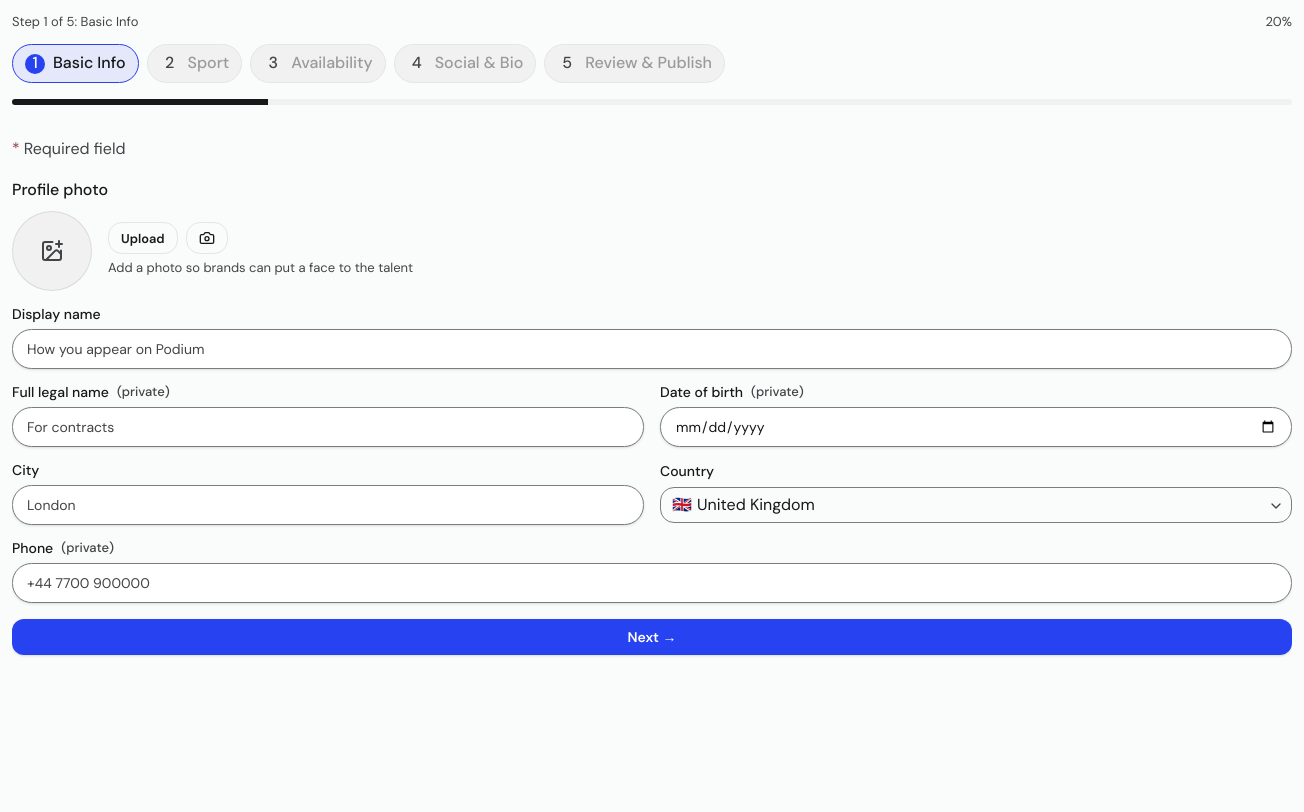
ProfileWizard › step 1: shows validation error for missing display name
Click the button "Next →".
click(652, 636)  # box x1=12 y1=618 x2=1292 y2=654
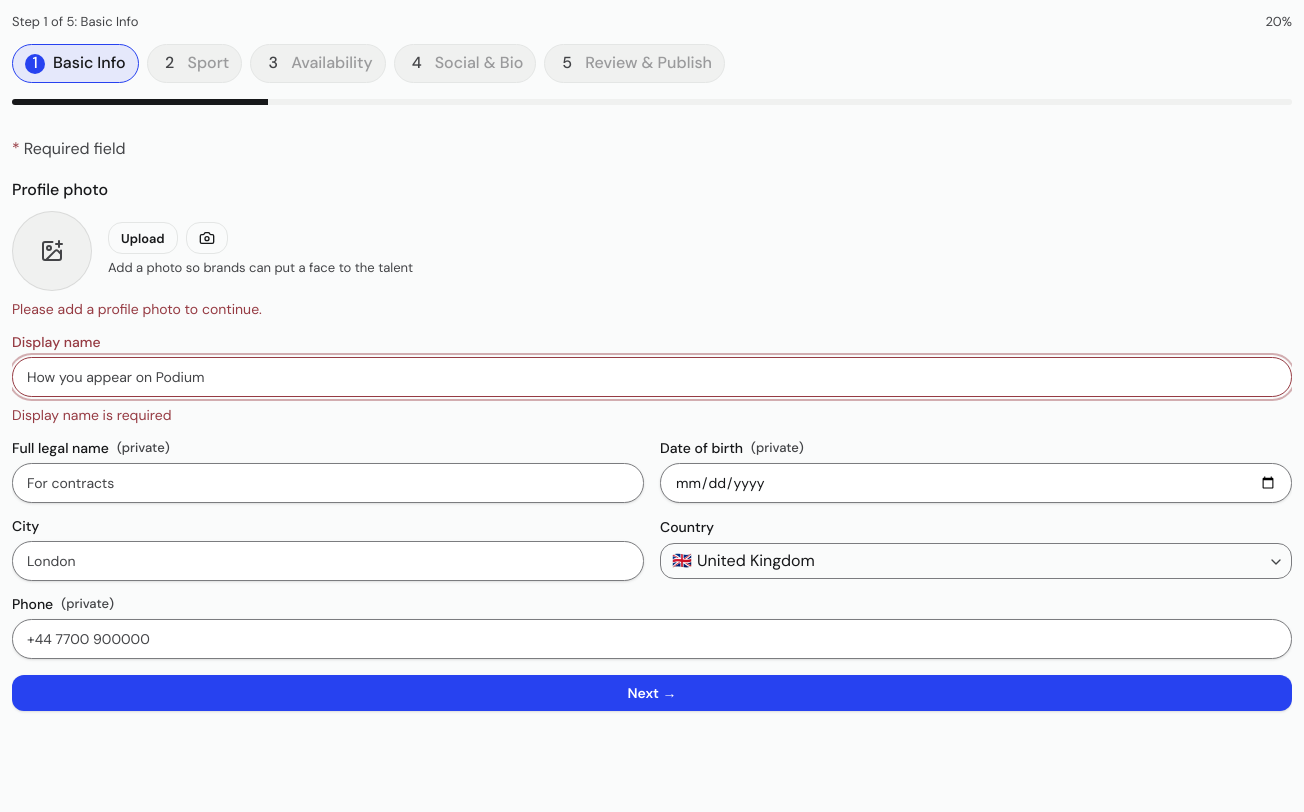
Result: the text "Display name is required" is shown at x1=12 y1=406 x2=171 y2=424
